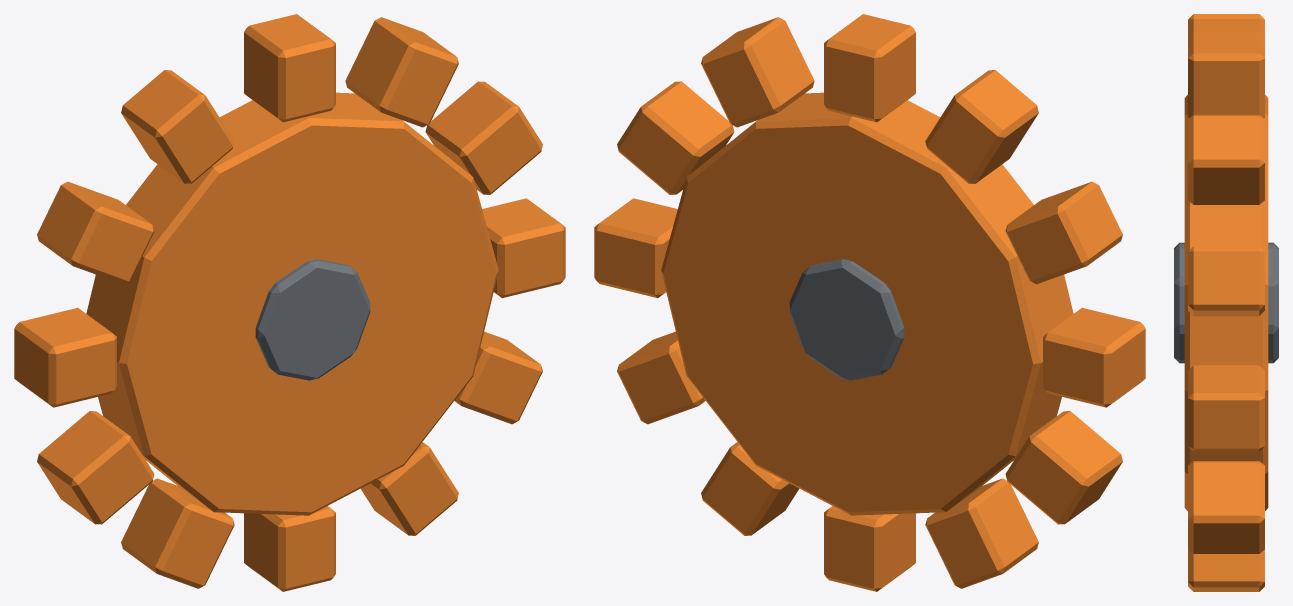
Rendered from gear_large.glb.
3 views of the same model, side by side, from view 1: azimuth 30°, elevation 25°; view 2: azimuth 150°, elevation 25°; view 3: azimuth 270°, elevation 25° (orthographic). The views are drawn at different scales.
Parts seen in each view (by area): view 1: gear_large; view 2: gear_large; view 3: gear_large.
Boxes of the visible parts, <box> form: gear_large: <box>14,14,565,591</box>; gear_large: <box>594,14,1145,591</box>; gear_large: <box>1174,14,1278,591</box>.
Size of the model in its own units: 0.4116 by 0.4116 by 0.075.
